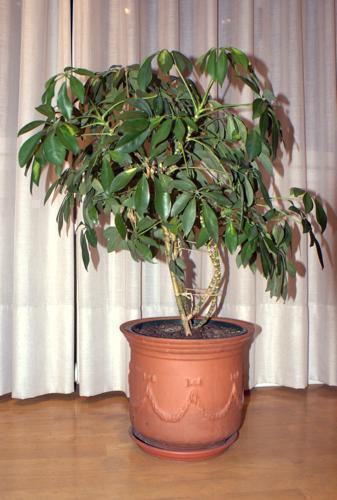Matera: (29, 34, 332, 474)
